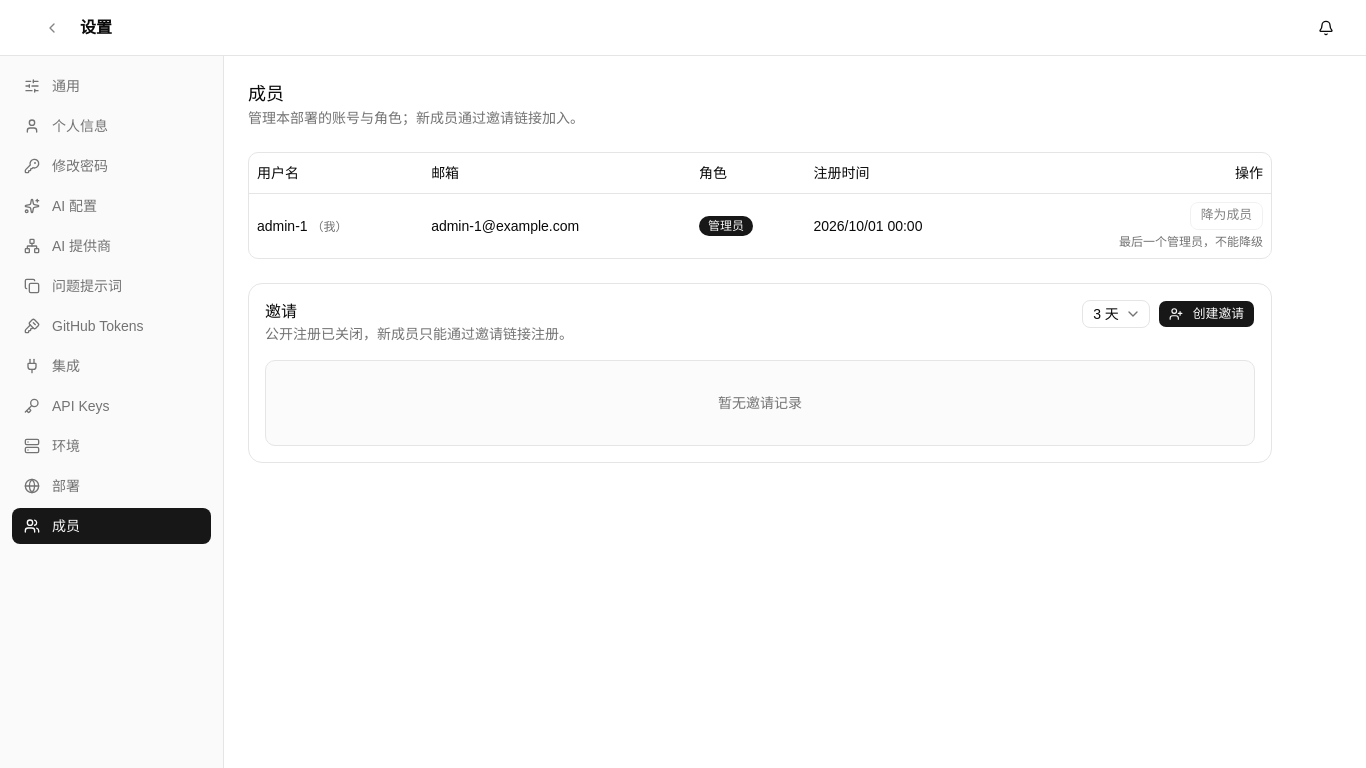
it: MembersPage admin view › builds the invite link from the deployment public_url when set
This screenshot has width=1366, height=768.
Expected: the text "admin-1" is shown, [257,218,308,234]
Click the button "创建邀请": click(1206, 314) [1158,300,1255,328]
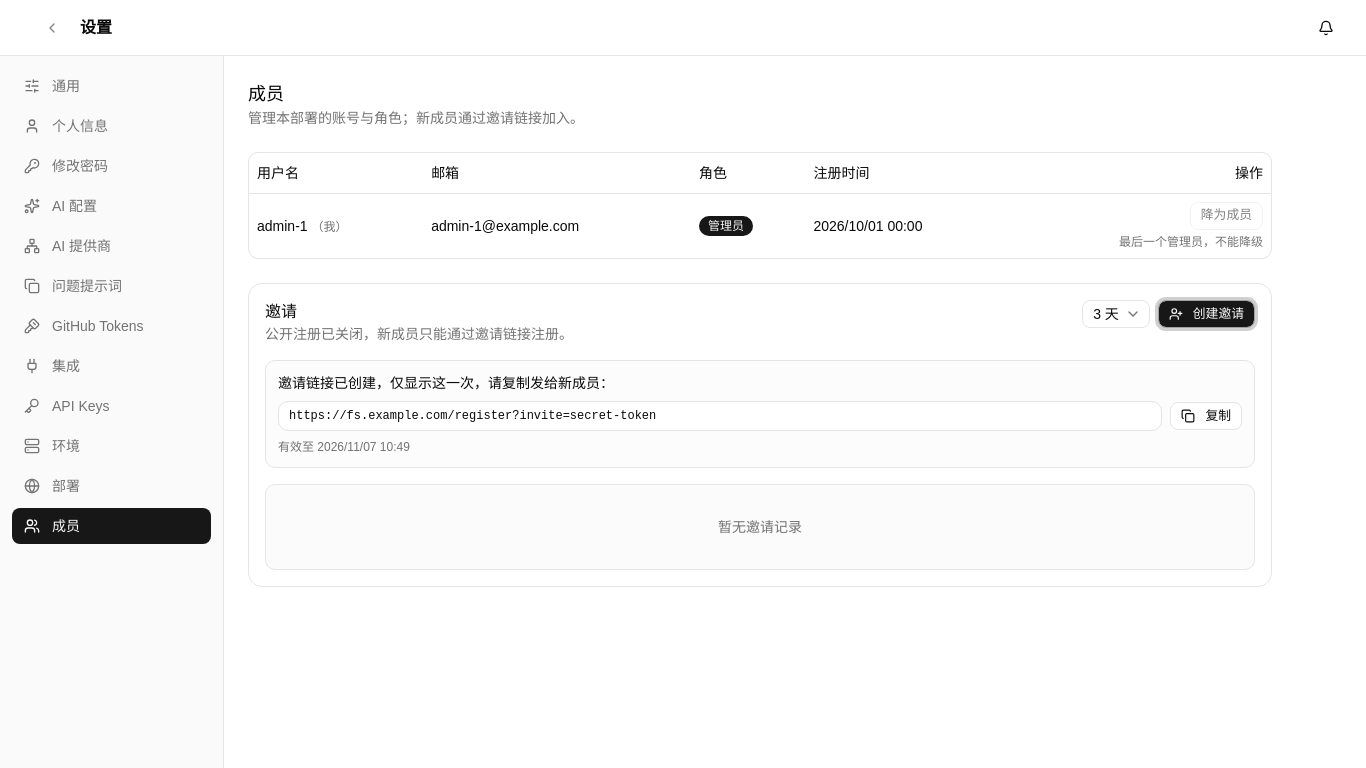
Now the text "https://fs.example.com/register?invite=secret-token" is shown, box [278,400,1162,430]
